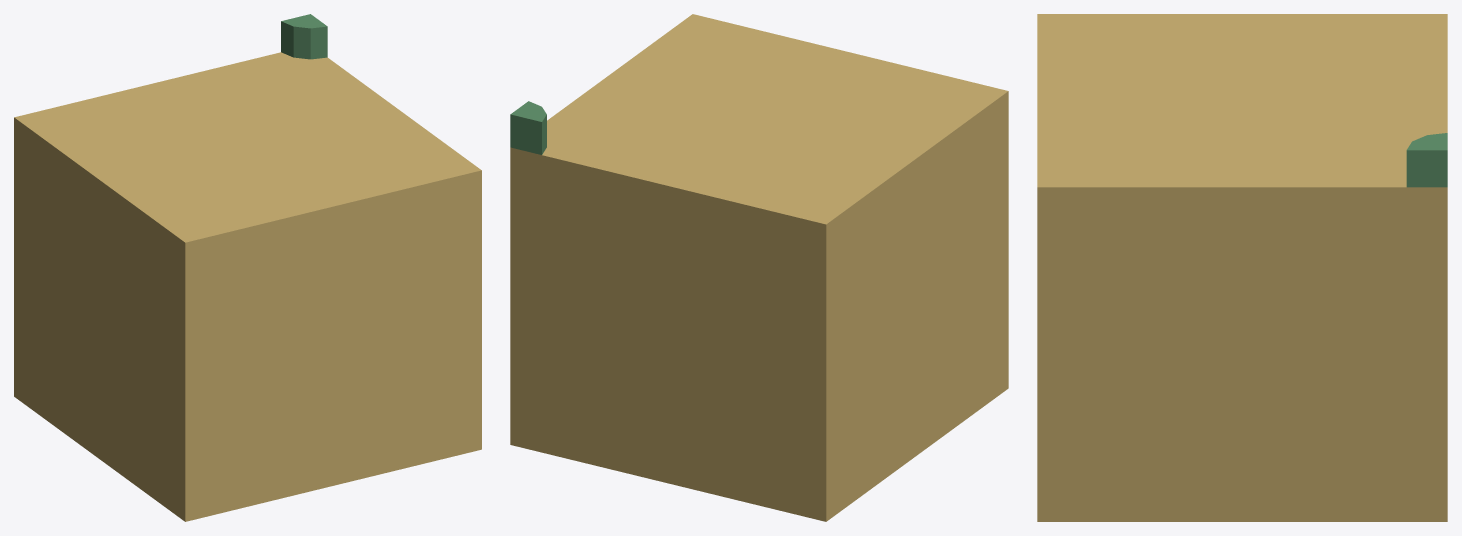
Rendered from path-corner-inner.glb.
The picture shows the model from 3 angles, left to right: view 1: azimuth 30°, elevation 25°; view 2: azimuth 150°, elevation 25°; view 3: azimuth 270°, elevation 25°; orthographic projection. The views are drawn at different scales.
Visible parts, largest first — view 1: Path - Corner Inner; view 2: Path - Corner Inner; view 3: Path - Corner Inner.
Boxes of the visible parts, x1,y1,x2,y2 form: Path - Corner Inner: (14,14,481,521); Path - Corner Inner: (510,14,1008,521); Path - Corner Inner: (1037,14,1447,521).
Size of the model in its own units: 1 by 1 by 1.
